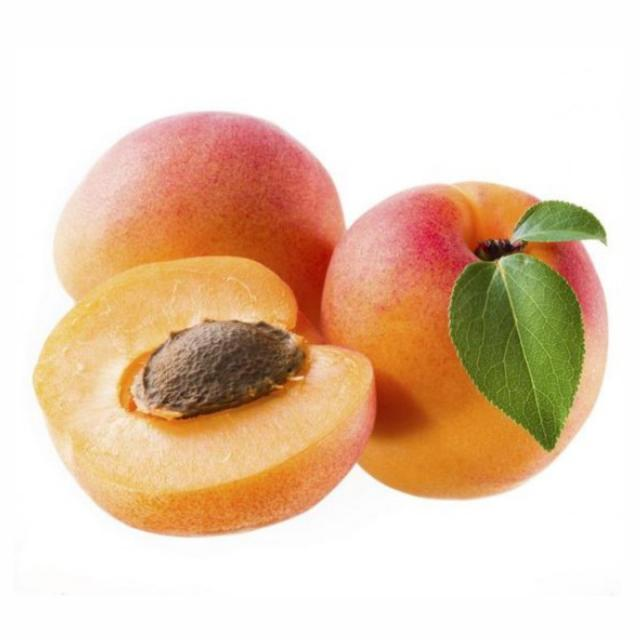Cekirdek: (131, 319, 307, 419)
Kayisi: (34, 258, 374, 534), (54, 113, 344, 334)
Yaprak: (450, 250, 585, 451)
